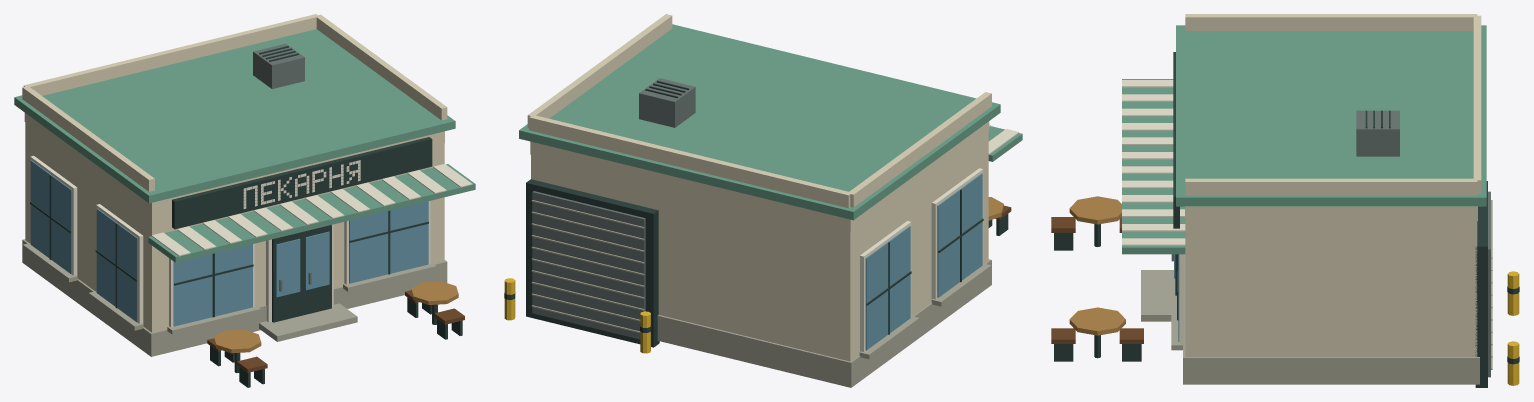
File: Bakery.obj
3 views of the same model, side by side, from view 1: azimuth 30°, elevation 25°; view 2: azimuth 150°, elevation 25°; view 3: azimuth 270°, elevation 25° (orthographic). The views are drawn at different scales.
Parts seen in each view (by area): view 1: Bakery; view 2: Bakery; view 3: Bakery.
Part boxes in pixels (left/top/right/bottom): Bakery: left=14, top=14, right=475, bottom=387; Bakery: left=504, top=14, right=1022, bottom=387; Bakery: left=1051, top=14, right=1519, bottom=387.
Bounding box in the file's own units: 8.49 × 5.06 × 9.62.
